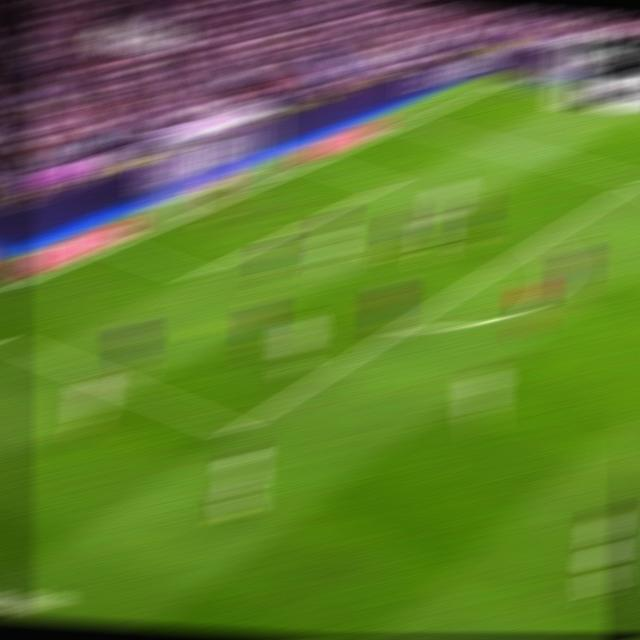bigarea_bottom_inner: (219, 418, 250, 442)
bigarea_top_inner: (624, 169, 640, 188)
bigarea_top_outter: (397, 114, 422, 128)
bottom_arc_area_intersection: (388, 317, 415, 335)
corner: (492, 76, 520, 86)
smallarea_top_inner: (374, 177, 399, 190)
top_arc_area_intersection: (529, 232, 553, 246)
